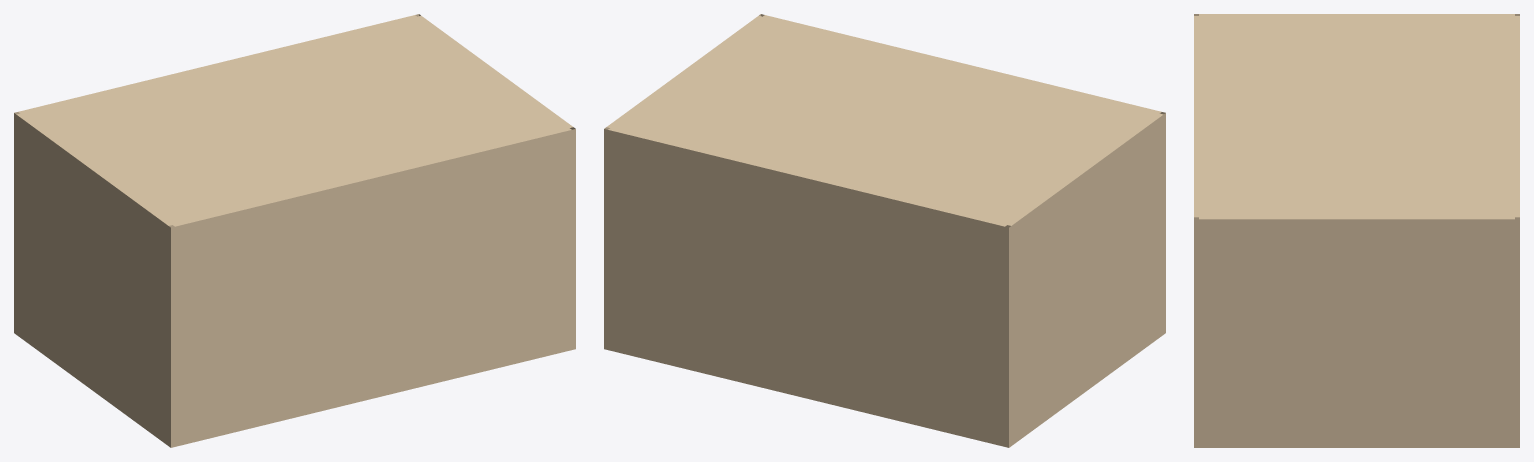
The model's file is fefco-0201_300x200x150_C.glb.
3 views of the same model, side by side, from view 1: azimuth 30°, elevation 25°; view 2: azimuth 150°, elevation 25°; view 3: azimuth 270°, elevation 25° (orthographic). The views are drawn at different scales.
Parts seen in each view (by area): view 1: box; view 2: box; view 3: box.
Part boxes in pixels (box(x1,y1,x2,y2)): box: box(14, 14, 575, 447); box: box(604, 14, 1165, 447); box: box(1194, 14, 1519, 447).
Bounding box in the file's own units: 0.304 × 0.158 × 0.204.
